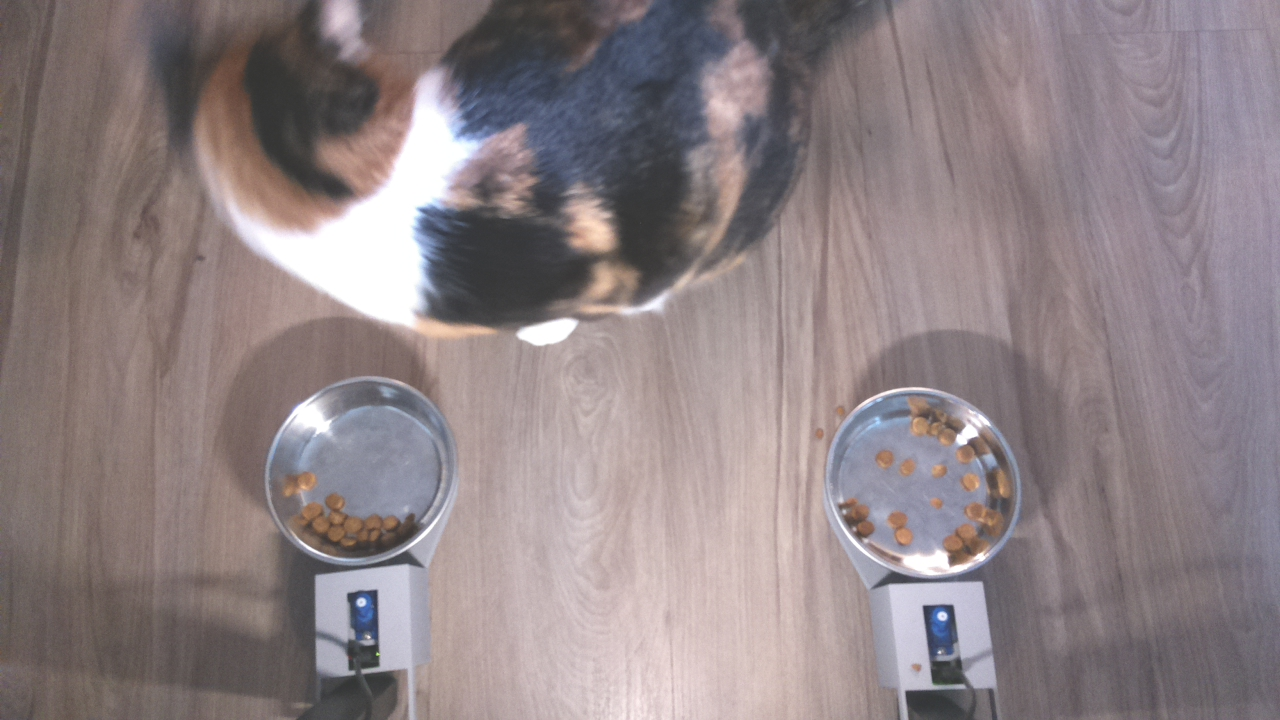bella: (132, 1, 420, 280)
open_bowl: (822, 380, 1032, 583), (261, 369, 459, 578)
